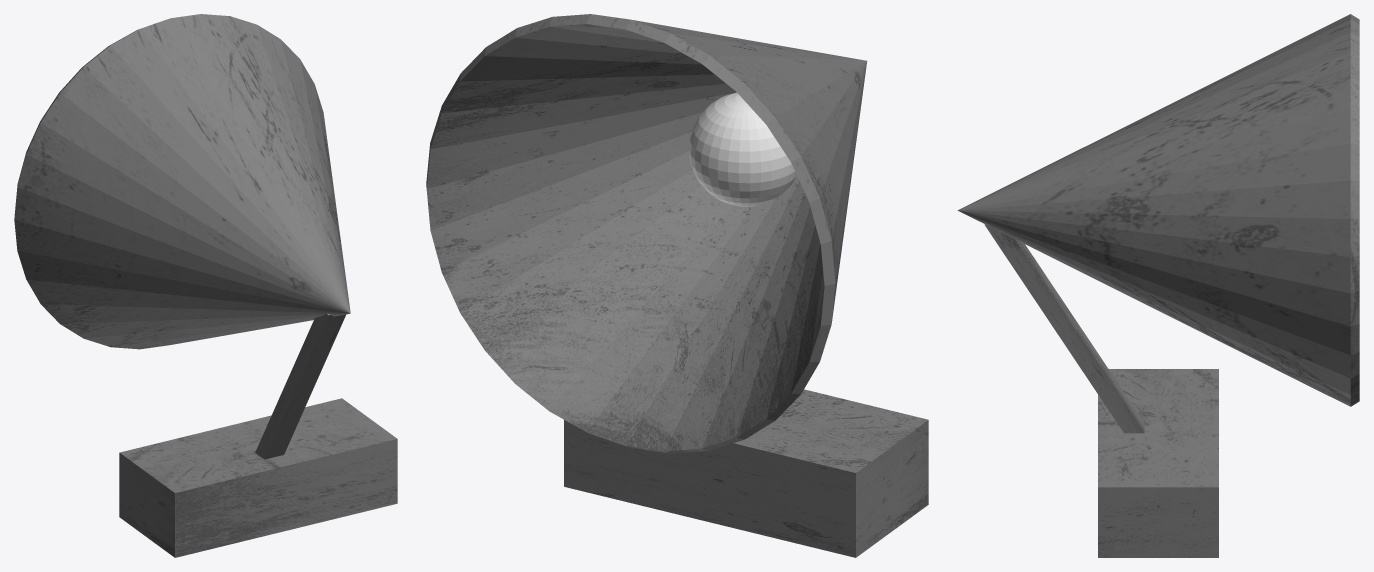
The model's file is Lamphead.fbx.
The picture shows the model from 3 angles, left to right: view 1: azimuth 30°, elevation 25°; view 2: azimuth 150°, elevation 25°; view 3: azimuth 270°, elevation 25°; orthographic projection. The views are drawn at different scales.
Visible parts, largest first — view 1: Cone; view 2: Cone, Cone.001; view 3: Cone.
Boxes of the visible parts, x1=… form: Cone: x1=14, y1=14, x2=397, y2=557; Cone: x1=426, y1=14, x2=928, y2=557; Cone.001: x1=689, y1=92, x2=796, y2=206; Cone: x1=957, y1=14, x2=1359, y2=557.
Bounding box in the file's own units: 196 × 256 × 200.
